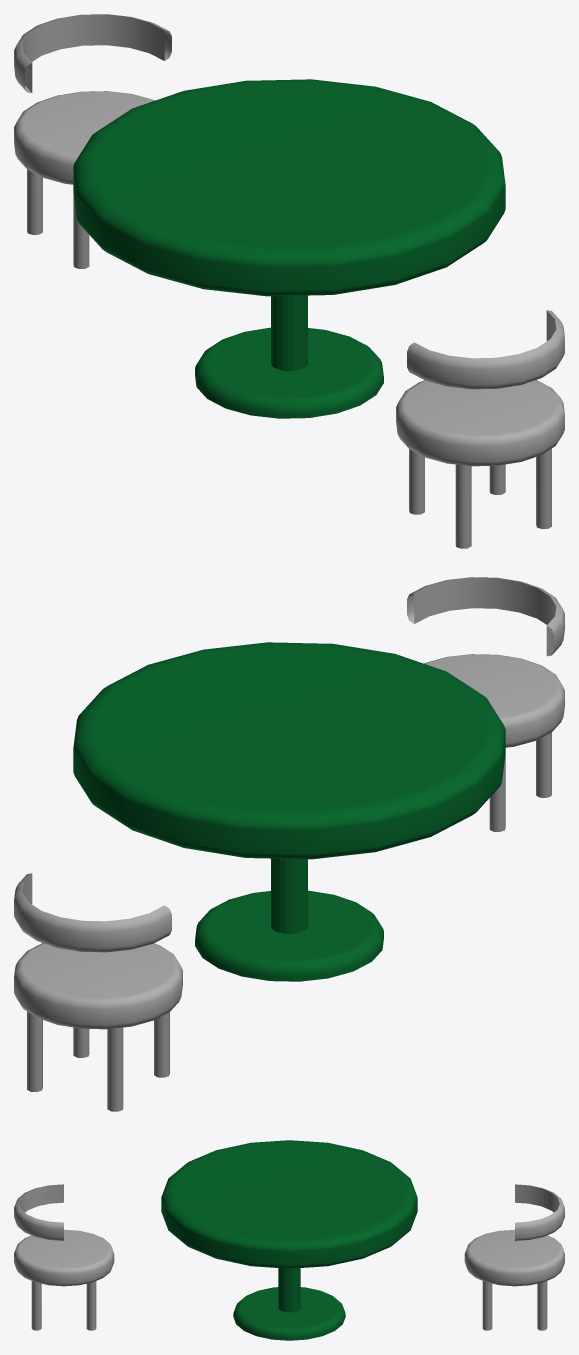
The model's file is Seat_2x.fbx.
3 renders of one model, top to bottom at view 1: azimuth 30°, elevation 25°; view 2: azimuth 150°, elevation 25°; view 3: azimuth 270°, elevation 25°, orthographic. The views are drawn at different scales.
Parts seen in each view (by area): view 1: Table_2x_P1, Seat_2x_P2 (×2), Table_2x_P2, Seat_2x_P1 (×2), Seat_2x_P3 (×2); view 2: Table_2x_P1, Seat_2x_P2 (×2), Table_2x_P2, Seat_2x_P1 (×2), Seat_2x_P3 (×2); view 3: Table_2x_P1, Seat_2x_P2 (×2), Table_2x_P2, Seat_2x_P1 (×2), Seat_2x_P3 (×2).
Part boxes in pixels (bbox=[...]): Table_2x_P1: bbox=[73, 79, 505, 296]; Seat_2x_P2 (×2): bbox=[14, 91, 564, 466]; Table_2x_P2: bbox=[195, 295, 383, 418]; Seat_2x_P1 (×2): bbox=[14, 14, 564, 389]; Seat_2x_P3 (×2): bbox=[27, 169, 551, 548]; Table_2x_P1: bbox=[73, 642, 505, 859]; Seat_2x_P2 (×2): bbox=[14, 654, 564, 1029]; Table_2x_P2: bbox=[195, 858, 383, 981]; Seat_2x_P1 (×2): bbox=[14, 577, 564, 952]; Seat_2x_P3 (×2): bbox=[27, 732, 551, 1111]; Table_2x_P1: bbox=[161, 1140, 417, 1268]; Seat_2x_P2 (×2): bbox=[14, 1229, 564, 1286]; Table_2x_P2: bbox=[233, 1268, 345, 1340]; Seat_2x_P1 (×2): bbox=[14, 1184, 564, 1240]; Seat_2x_P3 (×2): bbox=[31, 1281, 547, 1330].
Size of the model in its own units: 25.6 by 13.9 by 55.
